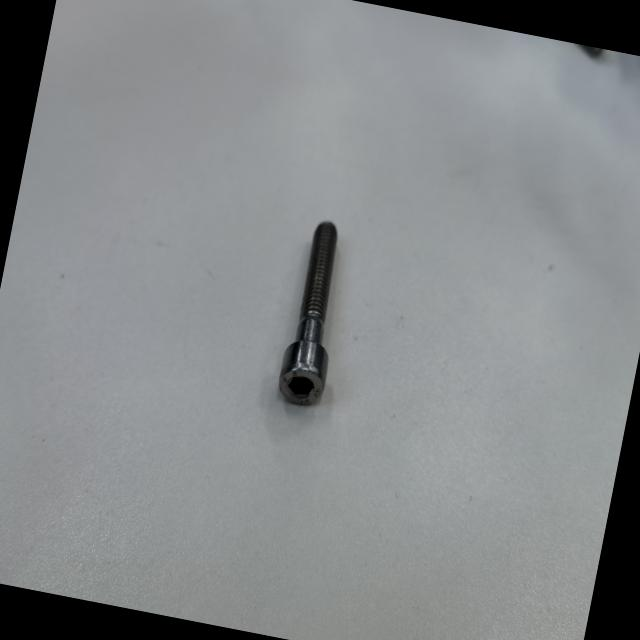screws: (270, 221, 342, 413)
